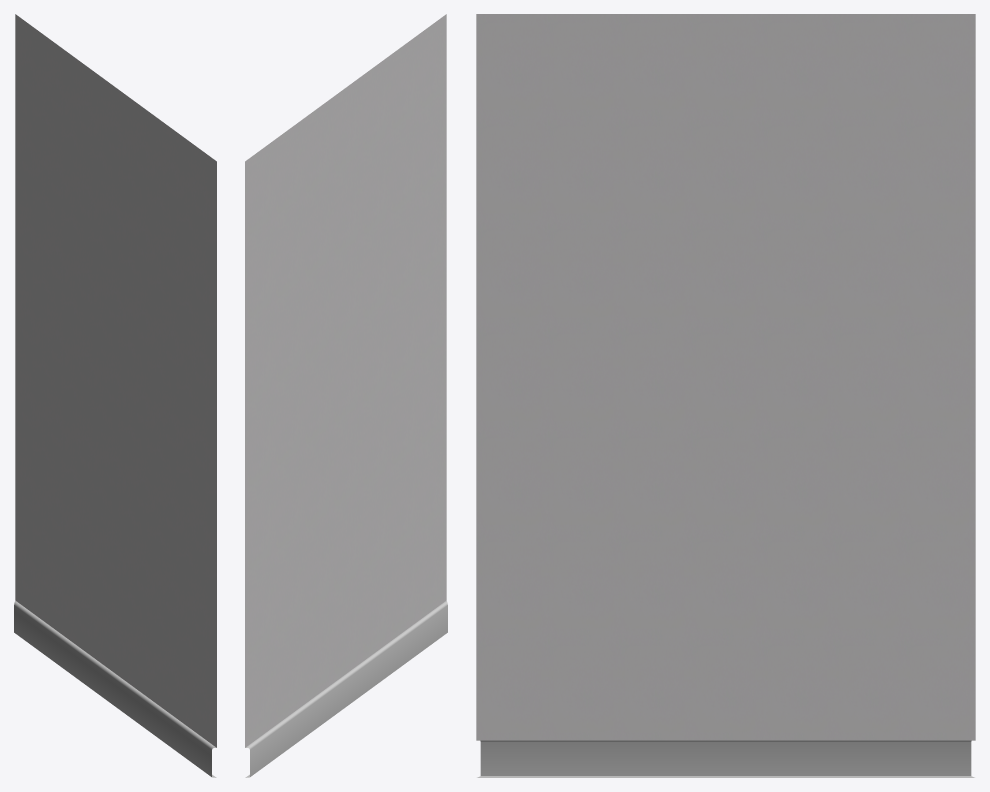
The model's file is SM_Wall_White_17.fbx.
3 views of the same model, side by side, from view 1: azimuth 30°, elevation 25°; view 2: azimuth 150°, elevation 25°; view 3: azimuth 270°, elevation 25° (orthographic). The views are drawn at different scales.
Parts seen in each view (by area): view 1: SM_Wall_White_17; view 2: SM_Wall_White_17; view 3: SM_Wall_White_17.
Boxes of the visible parts, left/top/right/bottom form: SM_Wall_White_17: left=14, top=14, right=216, bottom=777; SM_Wall_White_17: left=245, top=14, right=447, bottom=777; SM_Wall_White_17: left=476, top=14, right=975, bottom=777.
Size of the model in its own units: 2.5 by 281 by 474.
